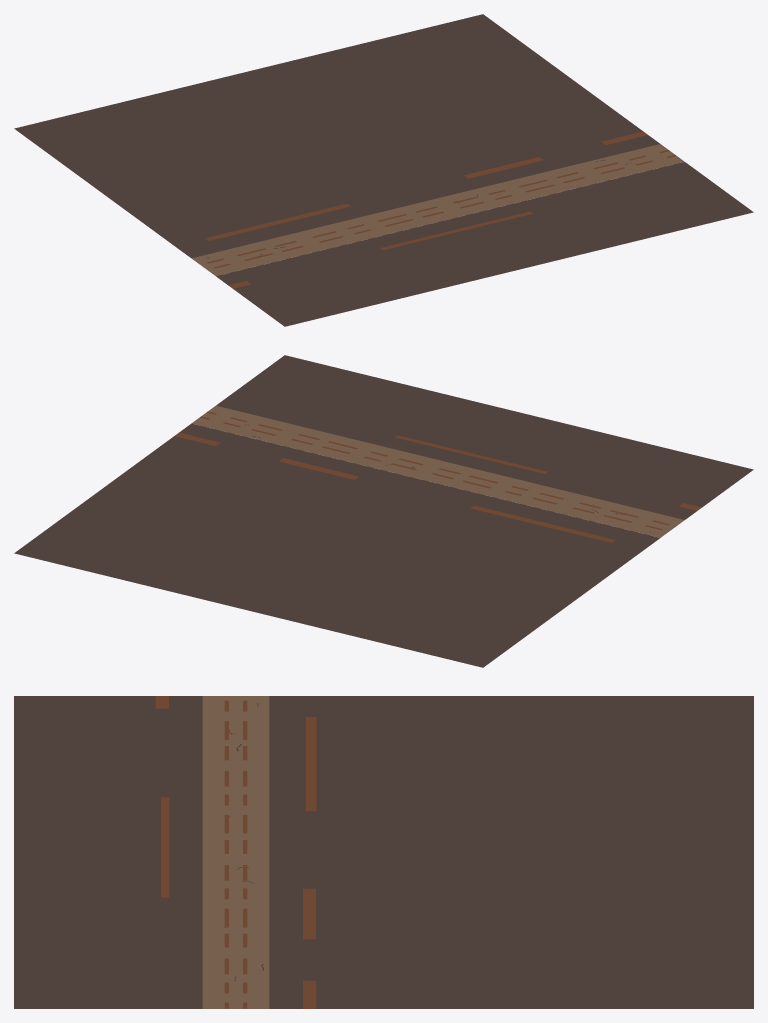
File: crossing-7-3.glb
3 renders of one model, top to bottom at view 1: azimuth 30°, elevation 25°; view 2: azimuth 150°, elevation 25°; view 3: azimuth 270°, elevation 25°, orthographic. The views are drawn at different scales.
Parts seen in each view (by area): view 1: crossing-7-3; view 2: crossing-7-3; view 3: crossing-7-3.
Part boxes in pixels (box(x1,y1,x2,y2)): crossing-7-3: box(14, 14, 753, 326); crossing-7-3: box(14, 355, 753, 667); crossing-7-3: box(14, 696, 753, 1008).
Size of the model in its own units: 100 by 0.0135 by 100.
